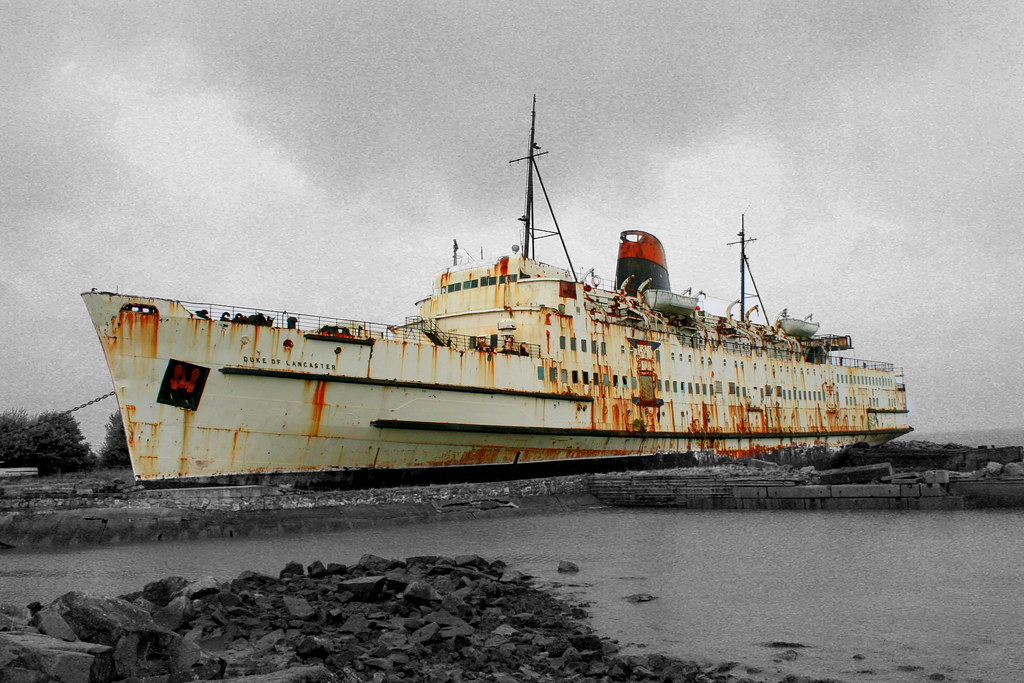rust: (542, 318, 615, 398), (704, 403, 811, 433), (126, 408, 158, 476), (116, 308, 162, 354), (305, 379, 331, 438), (396, 342, 439, 376), (494, 257, 515, 300)
